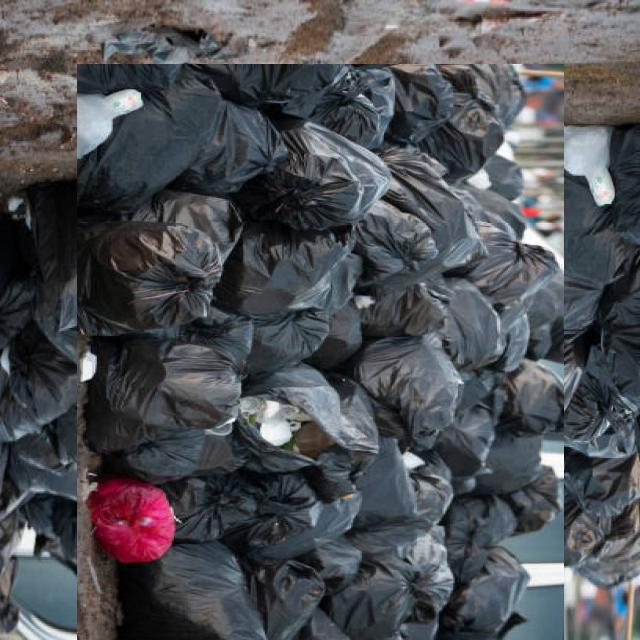garbage: (38, 102, 601, 640)
